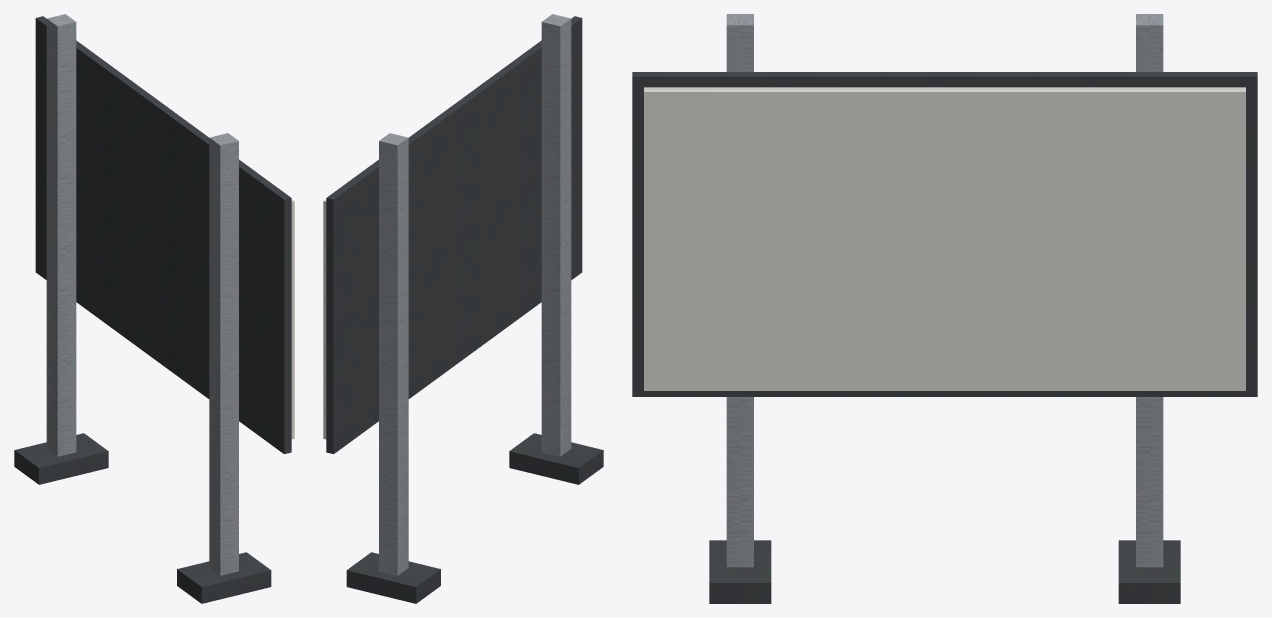
Rendered from corner-board_far.glb.
3 views of the same model, side by side, from view 1: azimuth 30°, elevation 25°; view 2: azimuth 150°, elevation 25°; view 3: azimuth 270°, elevation 25° (orthographic). The views are drawn at different scales.
Parts seen in each view (by area): view 1: dark-steel, galvanised, board-face; view 2: dark-steel, galvanised, board-face; view 3: board-face, dark-steel, galvanised.
Boxes of the visible parts, left/top/right/bottom form: dark-steel: left=14, top=16, right=291, bottom=603; galvanised: left=46, top=14, right=238, bottom=575; board-face: left=291, top=199, right=294, bottom=439; dark-steel: left=326, top=16, right=603, bottom=603; galvanised: left=379, top=14, right=571, bottom=575; board-face: left=323, top=199, right=326, bottom=439; board-face: left=644, top=87, right=1245, bottom=390; dark-steel: left=632, top=72, right=1257, bottom=603; galvanised: left=726, top=14, right=1163, bottom=567.
Size of the model in its own units: 0.26 by 1.6 by 1.61.
Materials: 3 (2 with a texture image).
